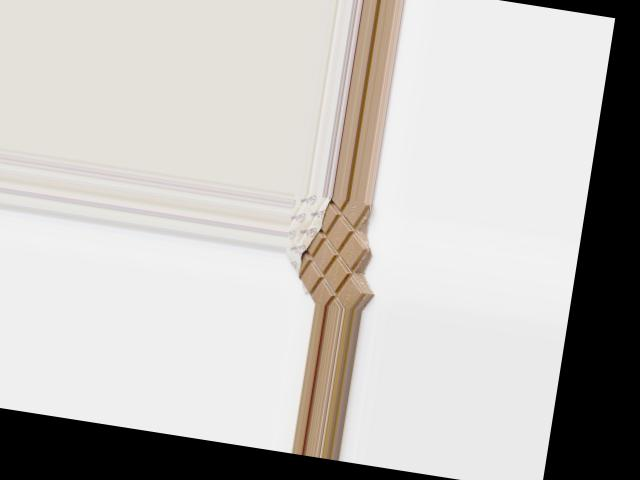chocolate: (279, 191, 379, 310)
